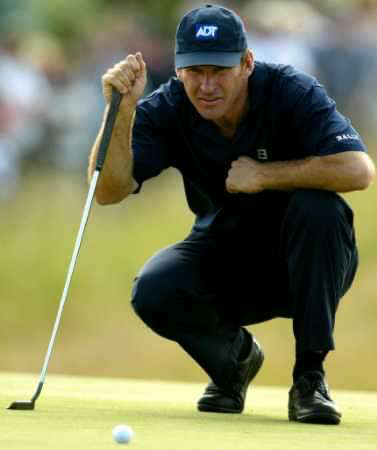Face: (181, 49, 247, 126)
